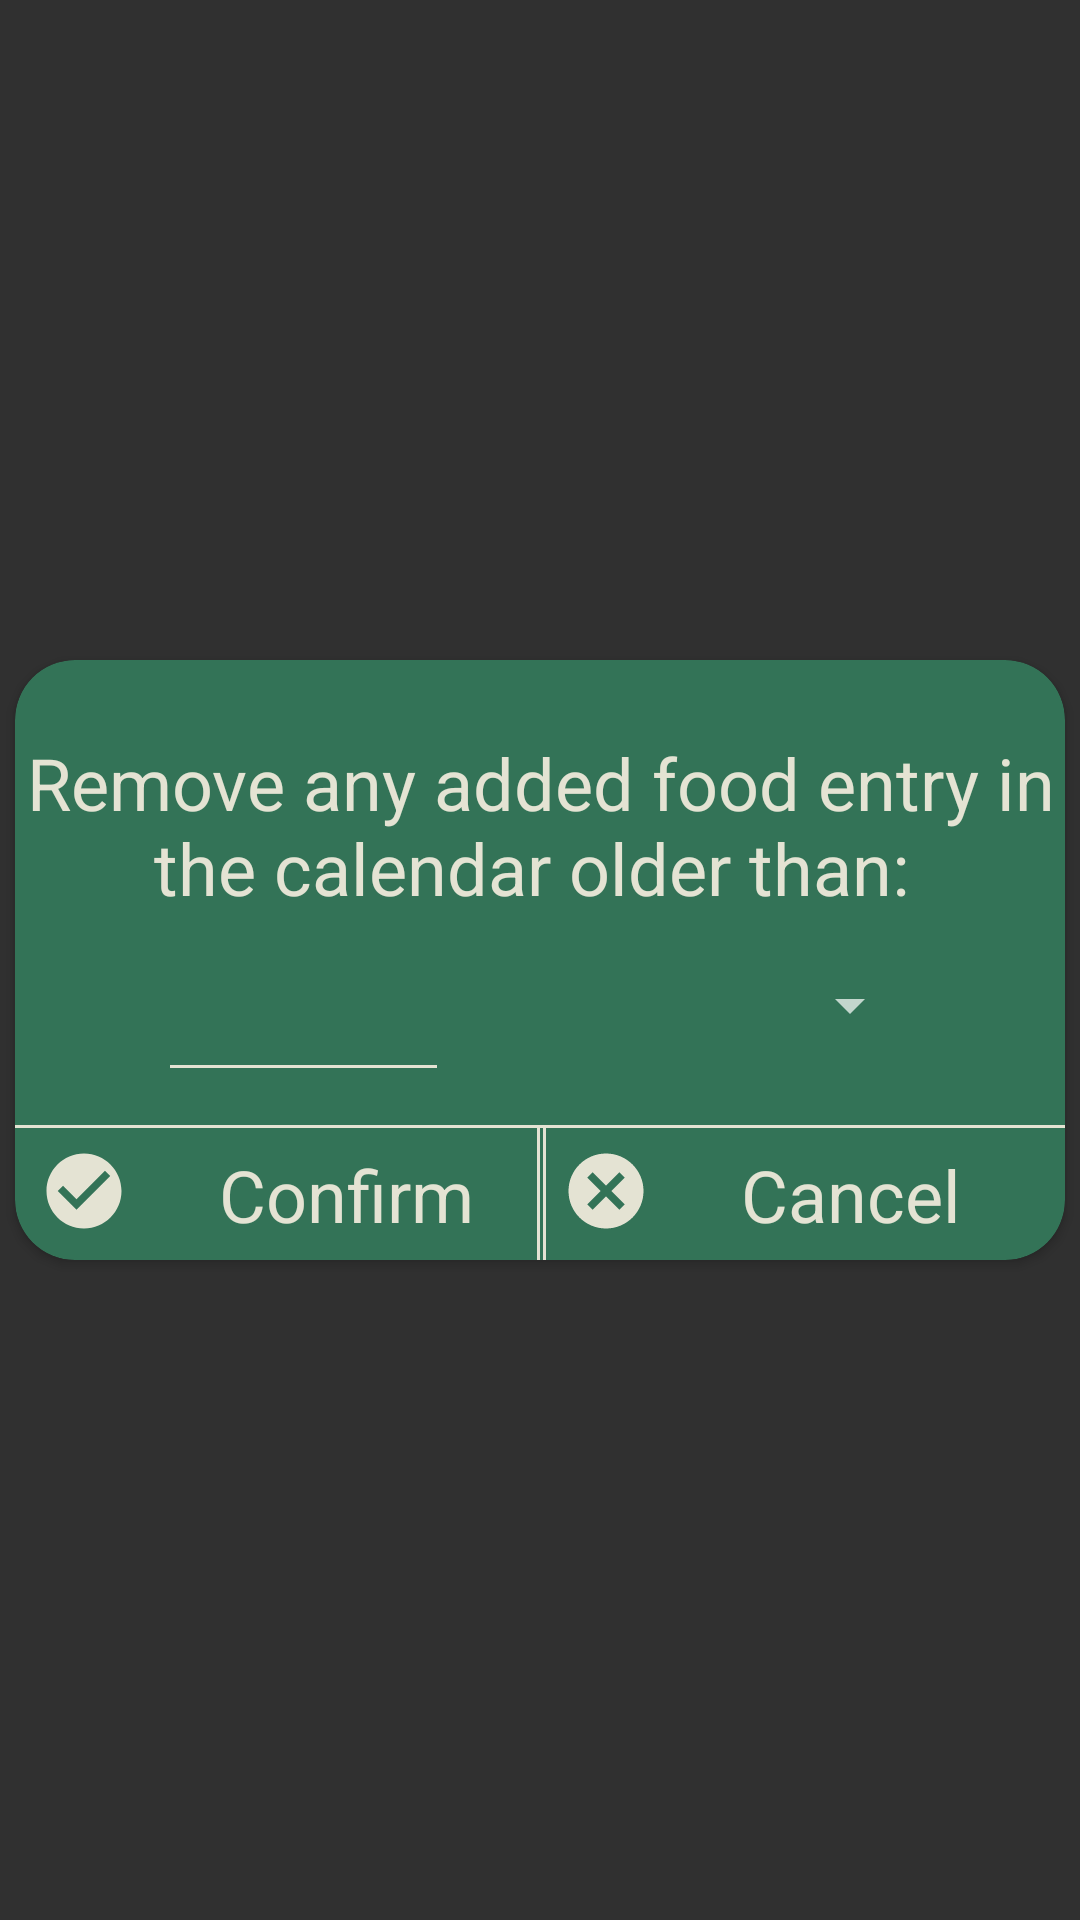

Named icons in this screenshot (1080*1920) and their bounding boxes, (x1, y1, x2, y2):
checkmark: (46, 1153, 122, 1229)
